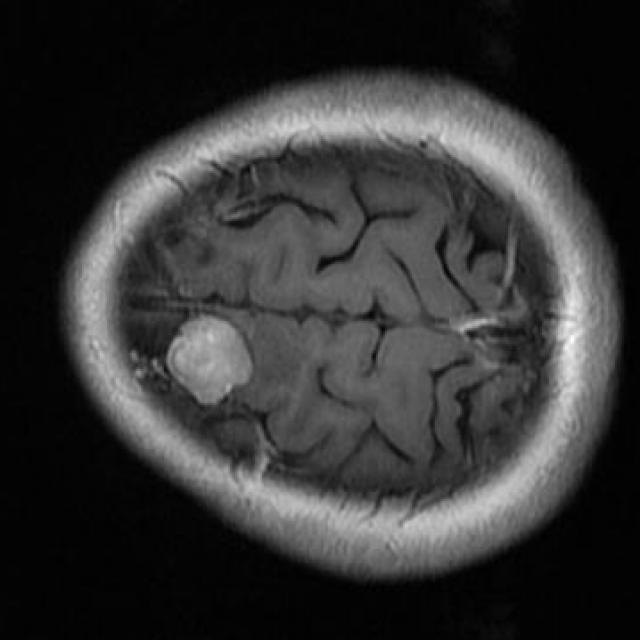meningioma: (166, 317, 255, 406)
